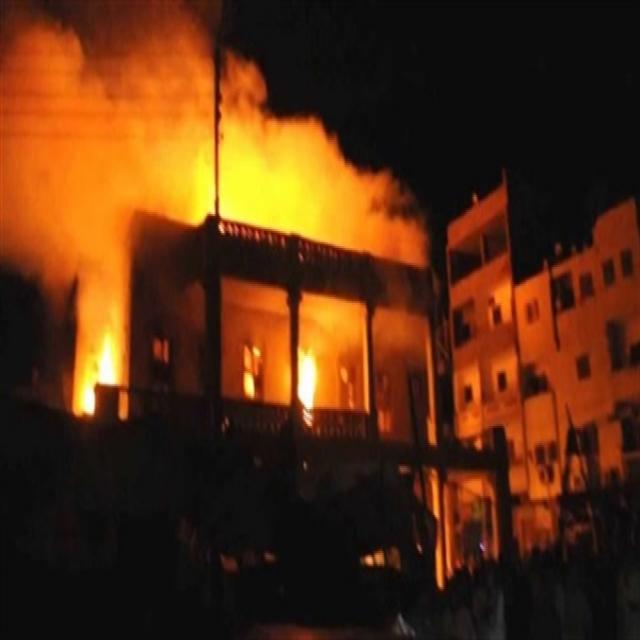Fire: (295, 347, 324, 430), (96, 328, 124, 386), (78, 386, 94, 413)
Smoke: (0, 21, 170, 401), (214, 47, 430, 267), (148, 40, 218, 229)
